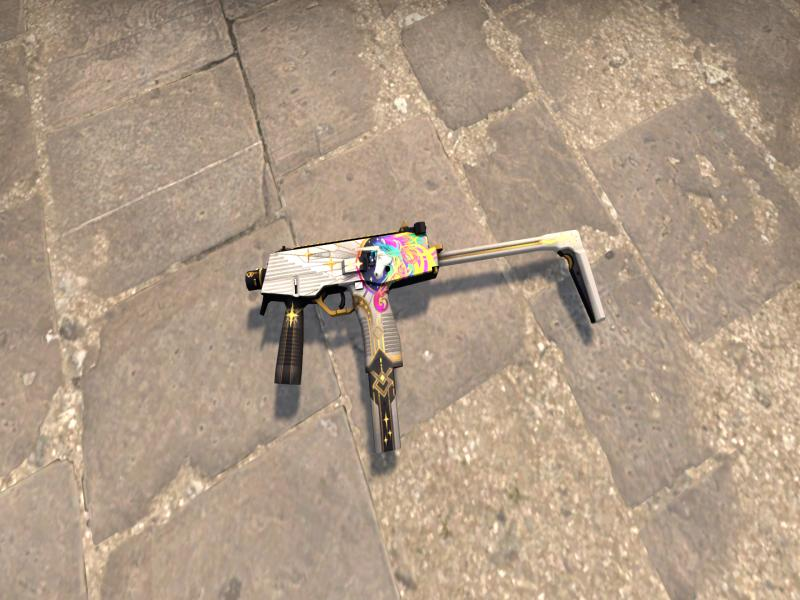MP9: (247, 222, 604, 453)
